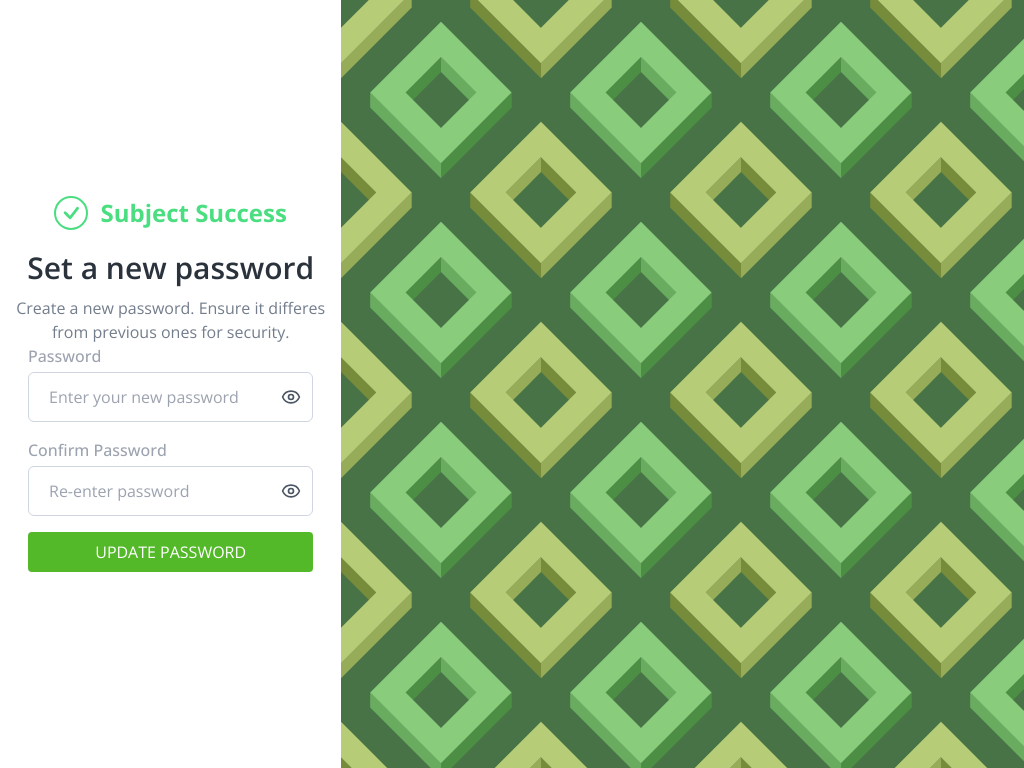
it: Reset Password Test › should display error message when password are not the same
This screenshot has width=1024, height=768.
Type "Test!1234" into the password field labelled "Password".
click(171, 397); type("Test!1234")  # box x1=28 y1=372 x2=313 y2=422
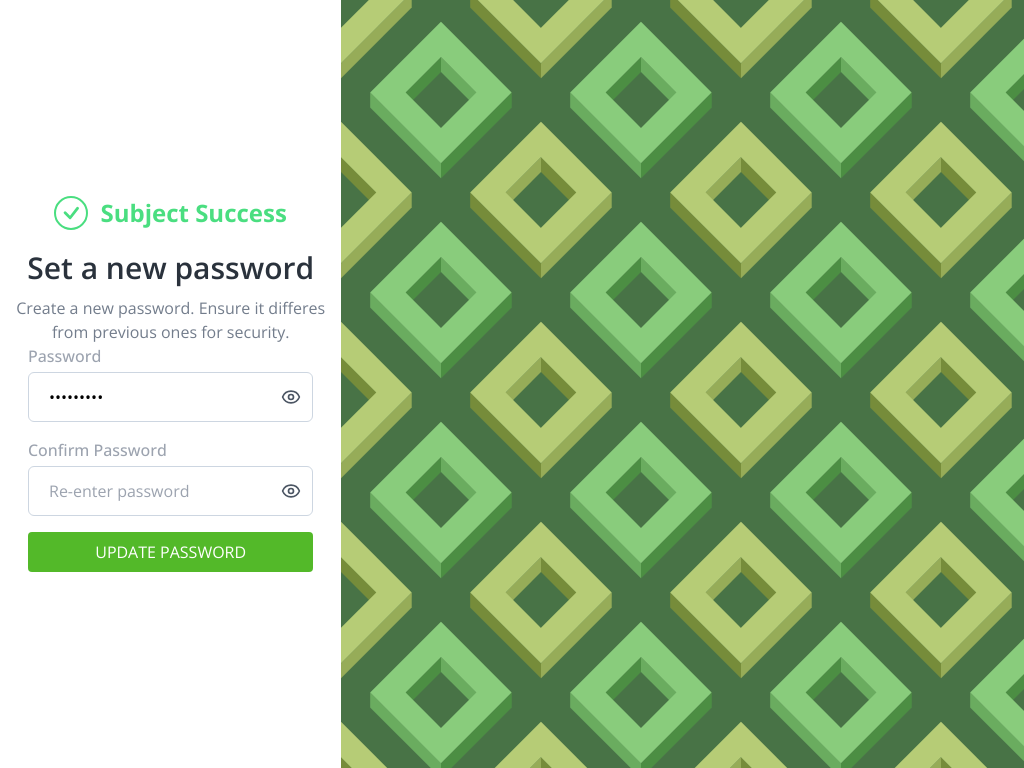
Type "Test!12356" into the password field labelled "Confirm Password".
click(171, 491); type("Test!12356")  # box x1=28 y1=466 x2=313 y2=516
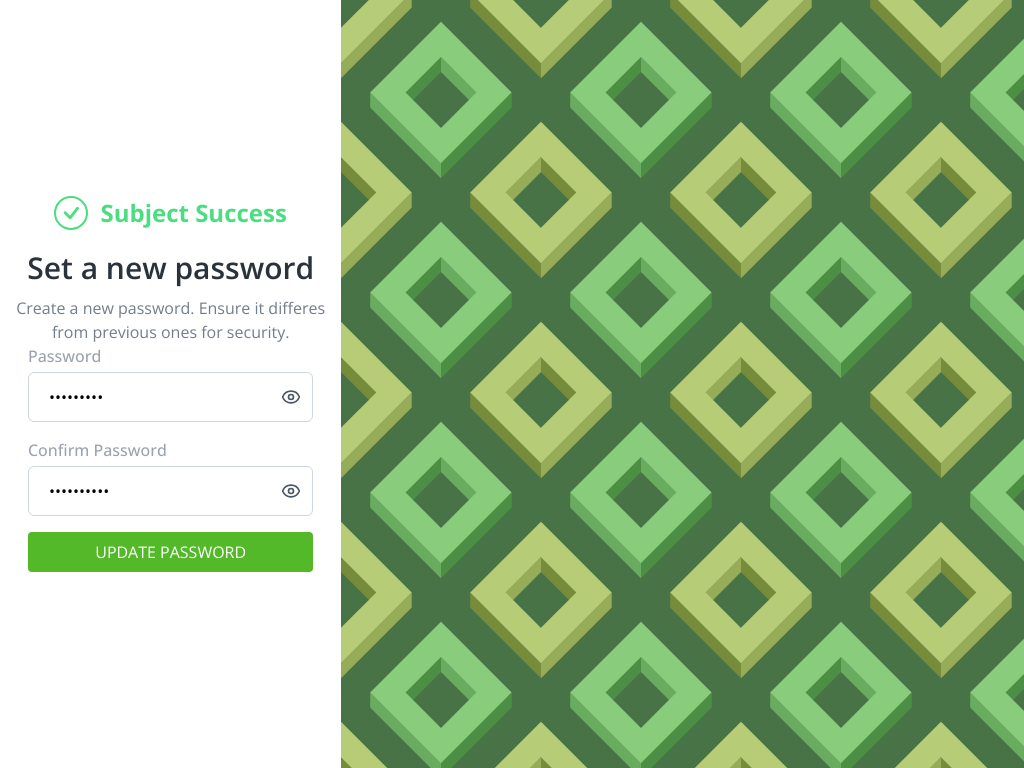
Click the button "update password".
click(171, 552)  # box x1=28 y1=532 x2=313 y2=572
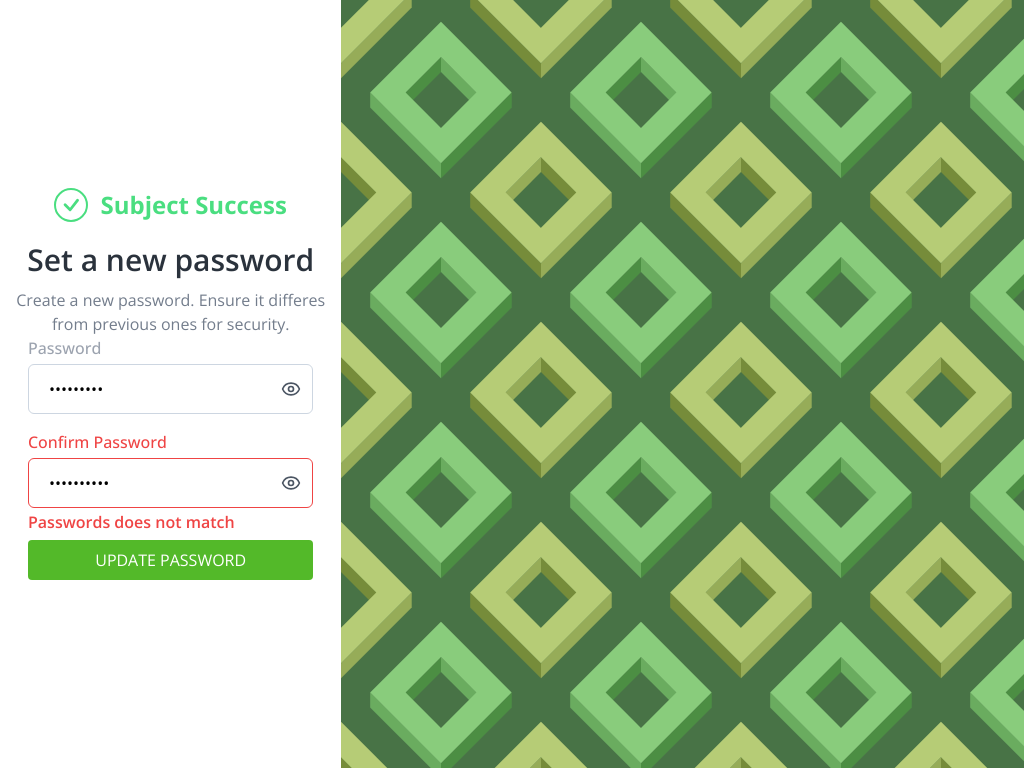
Check: the text "Passwords does not match" is shown, box x1=28 y1=511 x2=235 y2=533
